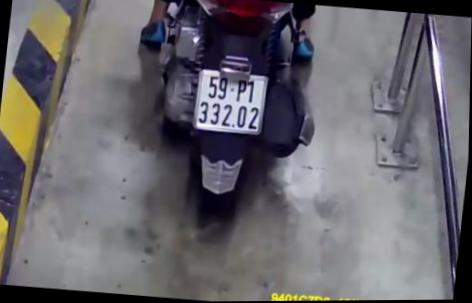LP: (191, 67, 270, 136)
